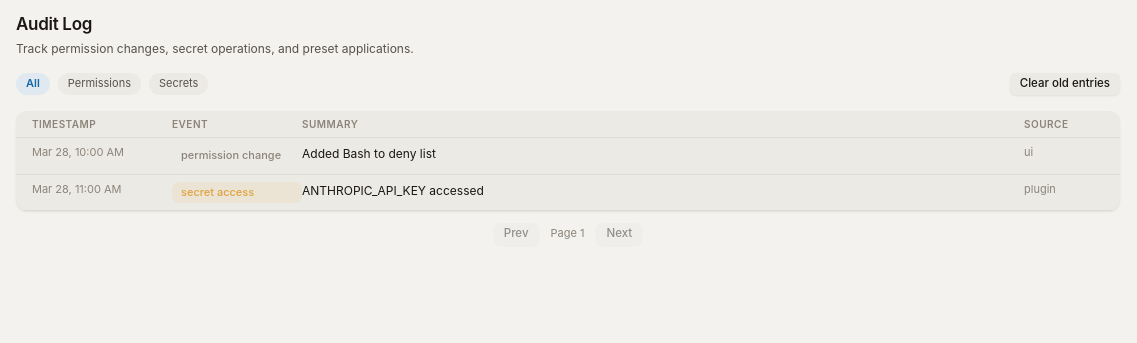
Test: AuditLogPage — row expansion › clicking the same row again collapses it
Click the text "Added Bash to deny list". click: (369, 154)
box: [302,146,436,162]
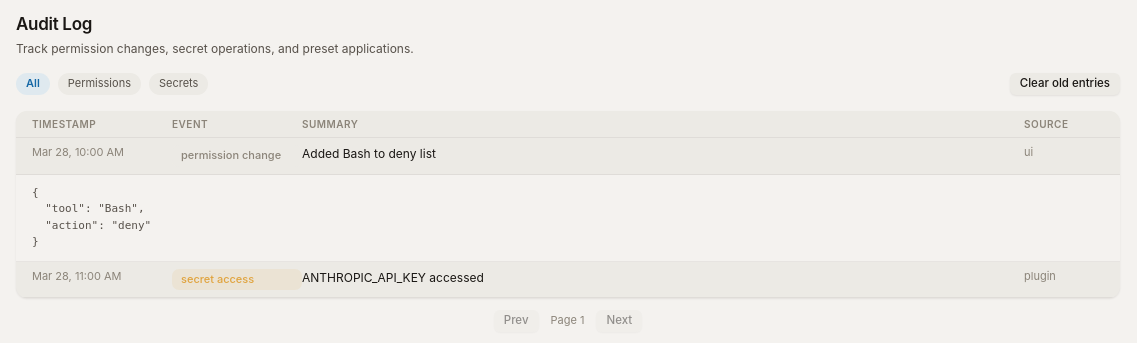
Check: the text "{ \"tool\": \"Bash\", \"action\": \"deny\" }" is shown, box [32,186,151,248]
Click the text "Added Bash to deny list". click: (369, 154)
box: [302,146,436,162]
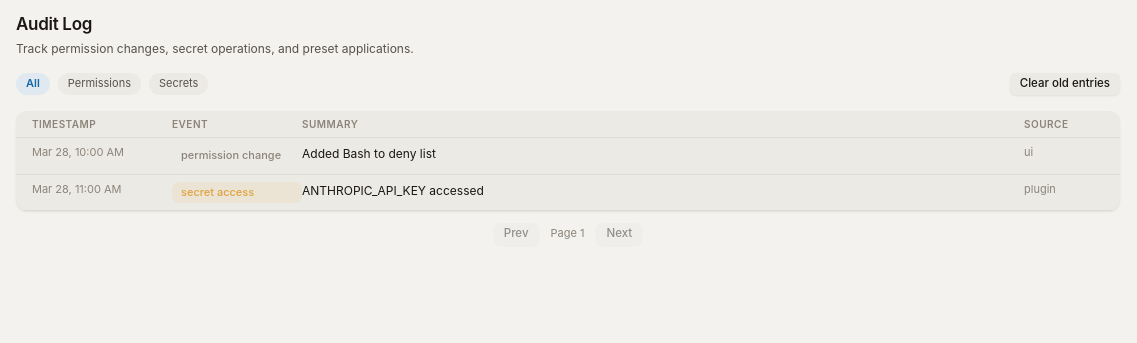
Check: the text "\"tool\"" is gone
